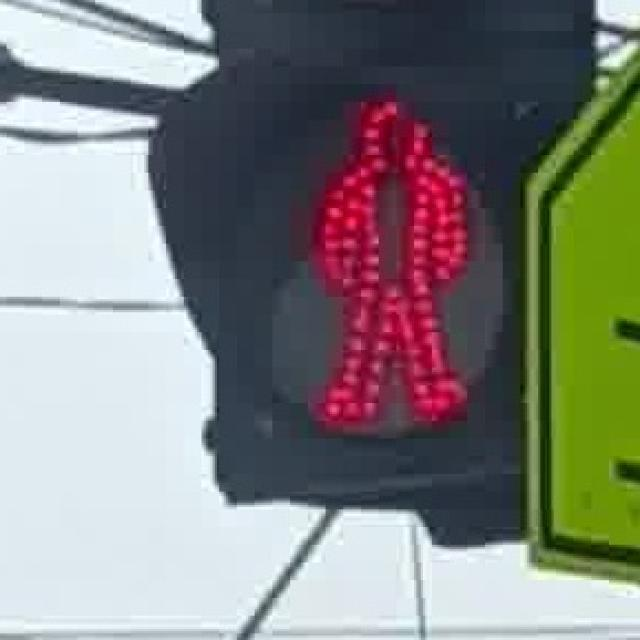red-crossing: (299, 76, 481, 437)
